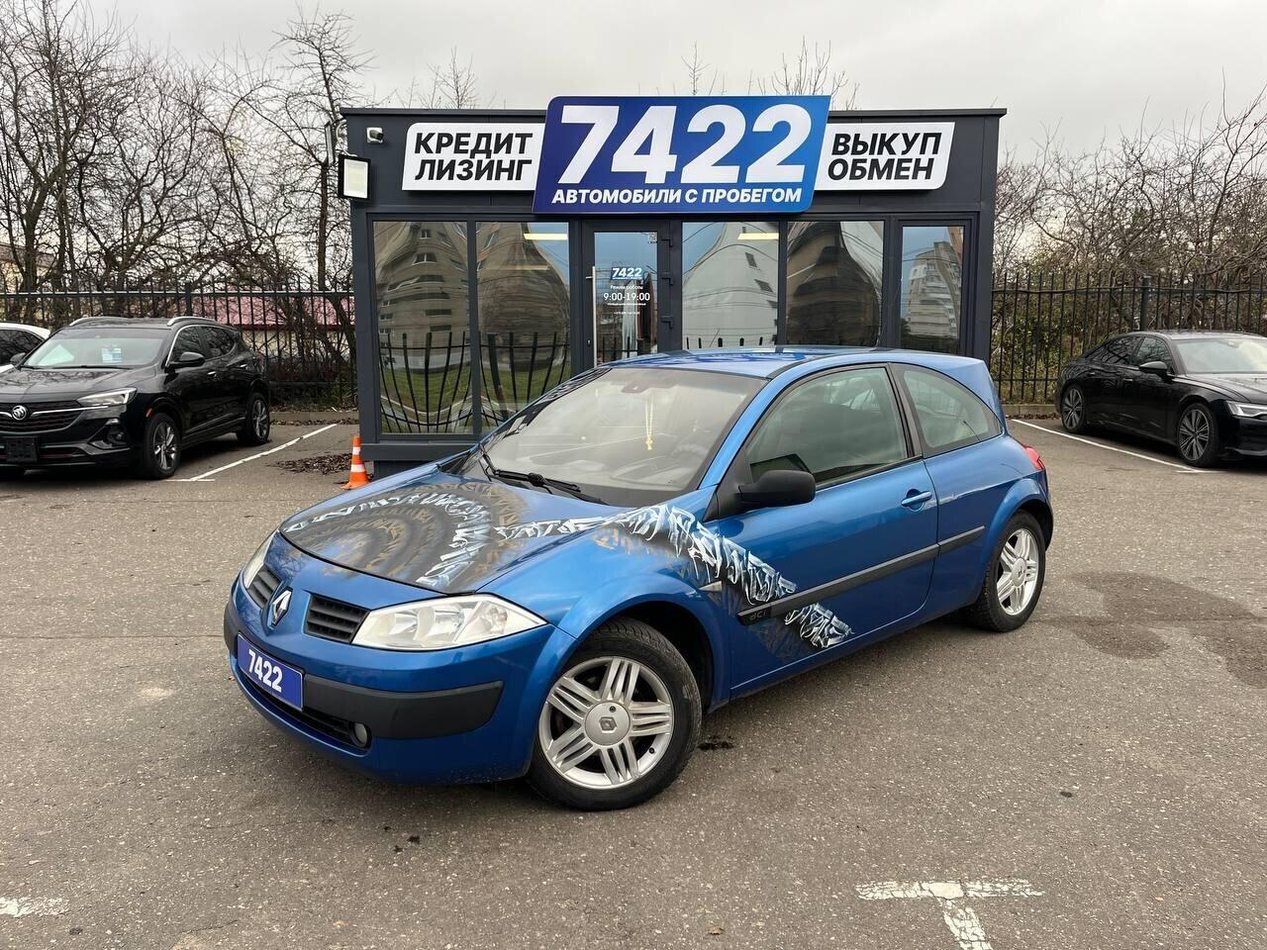Megane_2002-2006: (228, 345, 1054, 800)
